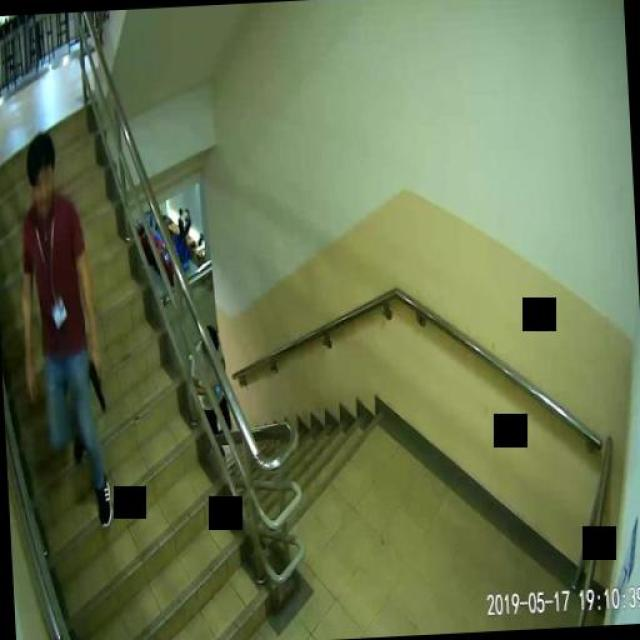gun: (87, 352, 105, 412)
